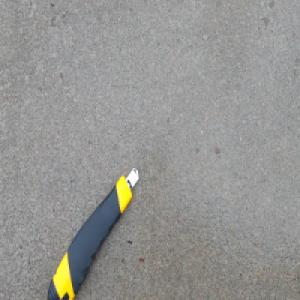Cutter: (46, 163, 139, 300)
